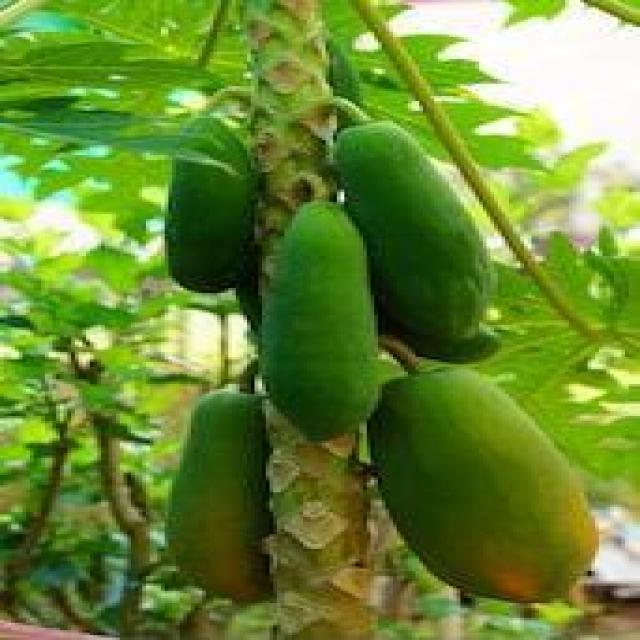Pepaya rippen: (380, 368, 607, 611)
Pepaya unrippen: (340, 126, 517, 356), (252, 213, 375, 443), (170, 382, 275, 600), (155, 118, 255, 299)
